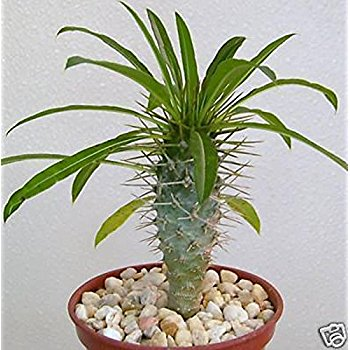Pachypodium geayi: (91, 29, 287, 305)
